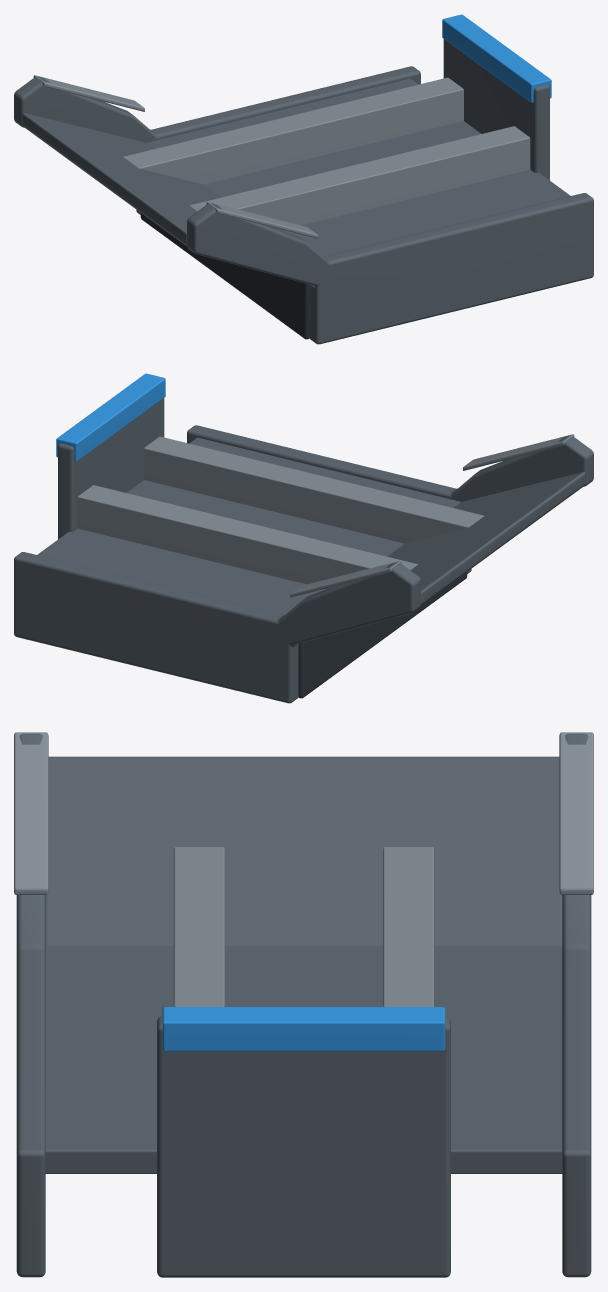
File: tray_blue.glb
3 renders of one model, top to bottom at view 1: azimuth 30°, elevation 25°; view 2: azimuth 150°, elevation 25°; view 3: azimuth 270°, elevation 25°, orthographic. The views are drawn at different scales.
Visible parts, largest first — view 1: Боковина.002, Дно поддона.001, Опорная лыжа.003, Опорная лыжа.002, Скат.001, Боковина.003, Торцевой упор.001, Передняя стенка шахты.001, Эмаль на торце.001, Накладка направляющей.002, Накладка направляющей.003; view 2: Боковина.003, Дно поддона.001, Опорная лыжа.002, Опорная лыжа.003, Скат.001, Боковина.002, Торцевой упор.001, Передняя стенка шахты.001, Эмаль на торце.001, Накладка направляющей.003, Накладка направляющей.002; view 3: Скат.001, Торцевой упор.001, Дно поддона.001, Эмаль на торце.001, Боковина.002, Боковина.003, Опорная лыжа.002, Опорная лыжа.003, Накладка направляющей.002, Накладка направляющей.003.
Part boxes in pixels (box(x1,y1,x2,y2)): Боковина.002: box(187, 193, 593, 344); Дно поддона.001: box(146, 78, 570, 256); Опорная лыжа.003: box(123, 77, 463, 184); Опорная лыжа.002: box(190, 126, 530, 229); Скат.001: box(22, 113, 220, 245); Боковина.003: box(14, 66, 420, 214); Торцевой упор.001: box(443, 39, 549, 180); Передняя стенка шахты.001: box(140, 213, 309, 339); Эмаль на торце.001: box(442, 14, 551, 102); Накладка направляющей.002: box(206, 201, 317, 238); Накладка направляющей.003: box(33, 75, 144, 111); Боковина.003: box(14, 552, 420, 703); Дно поддона.001: box(37, 437, 461, 615); Опорная лыжа.002: box(144, 436, 484, 543); Опорная лыжа.003: box(77, 485, 417, 588); Скат.001: box(387, 472, 585, 604); Боковина.002: box(187, 425, 593, 573); Торцевой упор.001: box(58, 398, 164, 539); Передняя стенка шахты.001: box(298, 572, 467, 698); Эмаль на торце.001: box(56, 373, 165, 461); Накладка направляющей.003: box(290, 560, 401, 597); Накладка направляющей.002: box(463, 434, 574, 470); Скат.001: box(45, 756, 562, 946); Торцевой упор.001: box(157, 1016, 450, 1277); Дно поддона.001: box(45, 946, 562, 1173); Эмаль на торце.001: box(162, 1007, 445, 1051); Боковина.002: box(16, 733, 45, 1277); Боковина.003: box(562, 733, 591, 1277); Опорная лыжа.002: box(173, 847, 224, 1006); Опорная лыжа.003: box(383, 847, 434, 1006); Накладка направляющей.002: box(14, 732, 48, 894); Накладка направляющей.003: box(559, 732, 593, 894).
Bounding box in the file's own units: 0.66 × 0.257 × 0.521.
